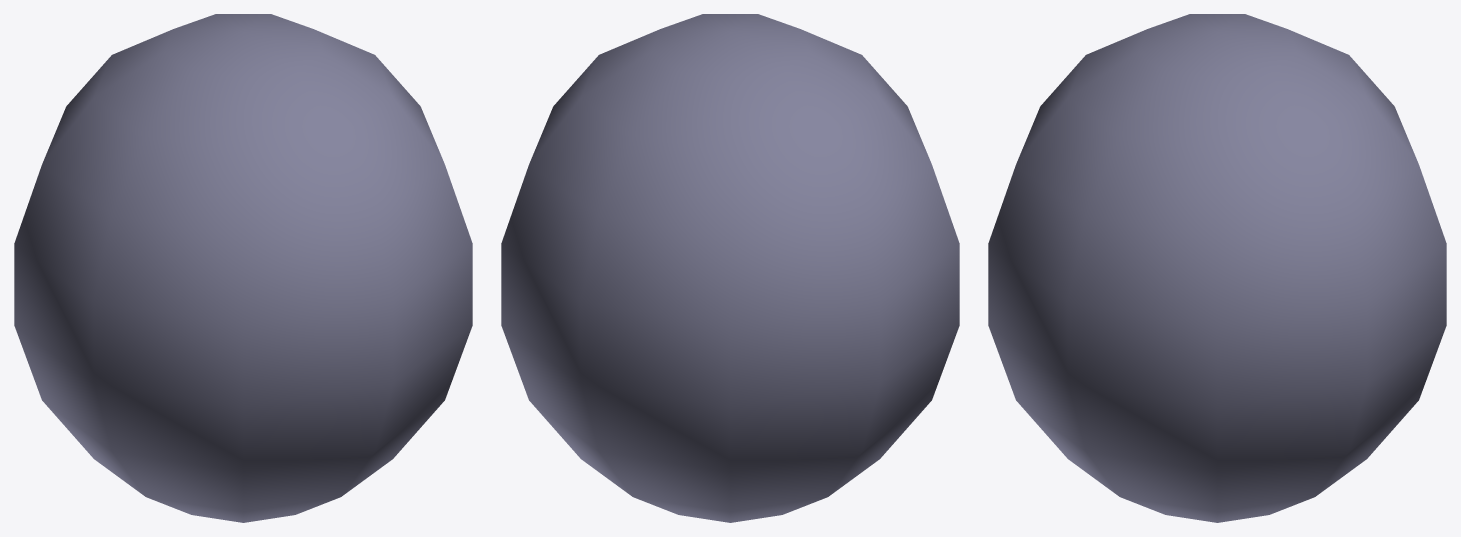
File: metafalcao_stage1.obj
The picture shows the model from 3 angles, left to right: view 1: azimuth 30°, elevation 25°; view 2: azimuth 150°, elevation 25°; view 3: azimuth 270°, elevation 25°; orthographic projection.
Size of the model in its own units: 1.34 by 1.54 by 1.36.
